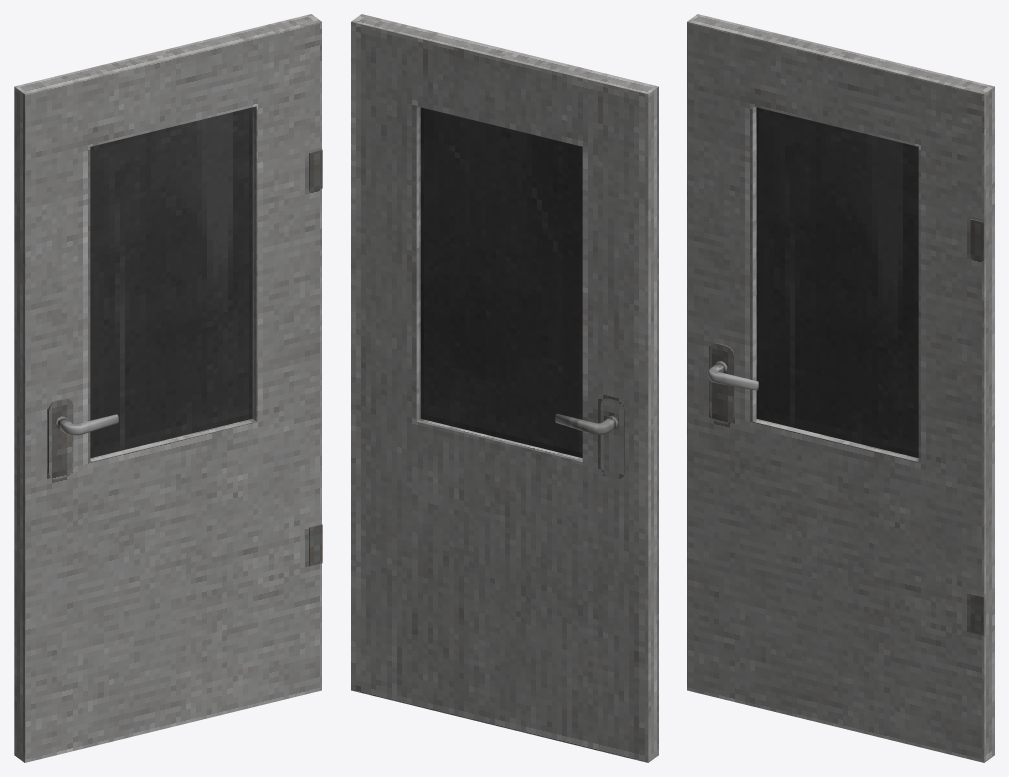
The model's file is HospitalModular_door_fixed.glb.
3 renders of one model, left to right at view 1: azimuth 30°, elevation 25°; view 2: azimuth 150°, elevation 25°; view 3: azimuth 330°, elevation 25°, orthographic.
Visible parts, largest first — view 1: DoorCabinet.001; view 2: DoorCabinet.001; view 3: DoorCabinet.001.
Boxes of the visible parts, left/top/right/bottom form: DoorCabinet.001: left=14, top=14, right=322, bottom=762; DoorCabinet.001: left=351, top=14, right=658, bottom=762; DoorCabinet.001: left=687, top=14, right=994, bottom=762.
Bounding box in the file's own units: 0.9004 × 1.94 × 0.2059.
1 material, 1 textured.
